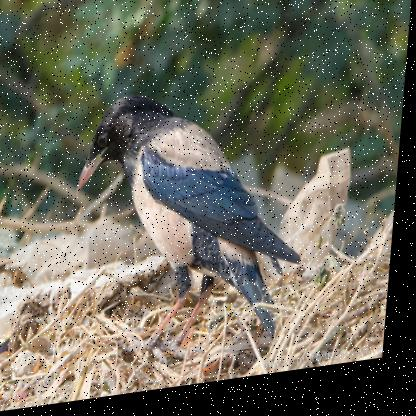Burung: (69, 78, 318, 368)
